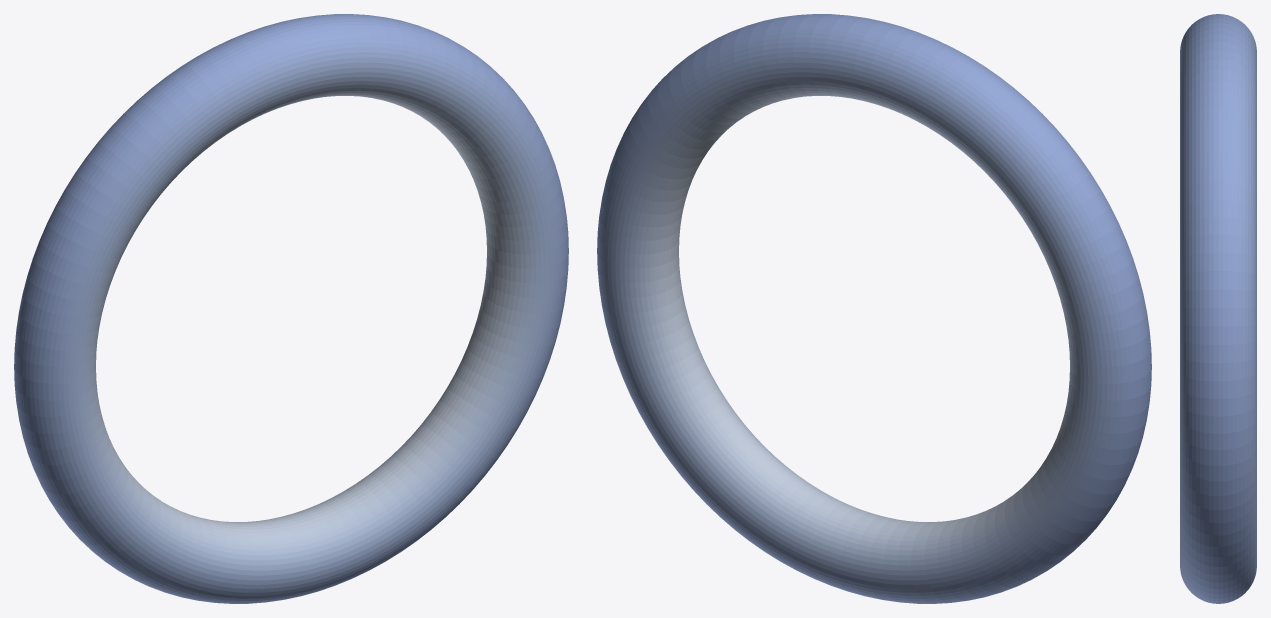
The picture shows the model from 3 angles, left to right: view 1: azimuth 30°, elevation 25°; view 2: azimuth 150°, elevation 25°; view 3: azimuth 270°, elevation 25°; orthographic projection. The views are drawn at different scales.
Parts seen in each view (by area): view 1: world; view 2: world; view 3: world.
Boxes of the visible parts, x1,y1,x2,y2 form: world: (14, 14, 568, 603); world: (597, 14, 1151, 603); world: (1180, 14, 1256, 603).
Bounding box in the file's own units: 27.6 × 27.6 × 3.59.
